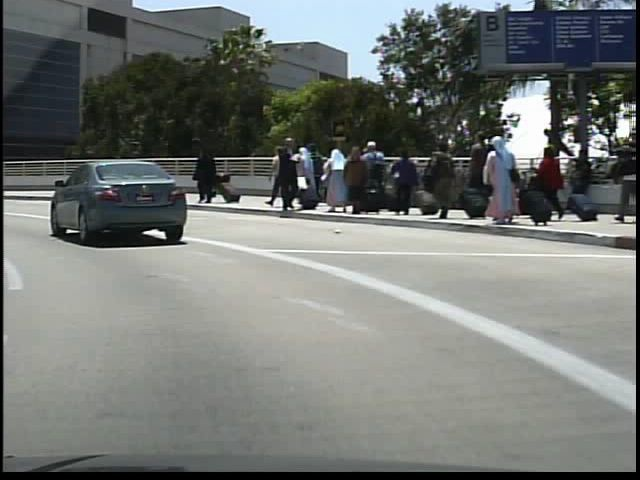person: (602, 137, 638, 224), (269, 135, 297, 211), (262, 143, 287, 212), (190, 146, 215, 206), (200, 153, 220, 198)
